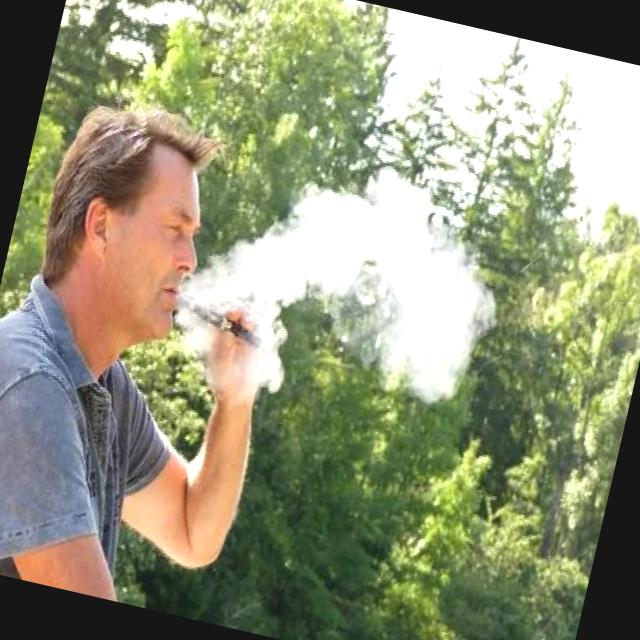cigarette: (159, 286, 280, 356)
